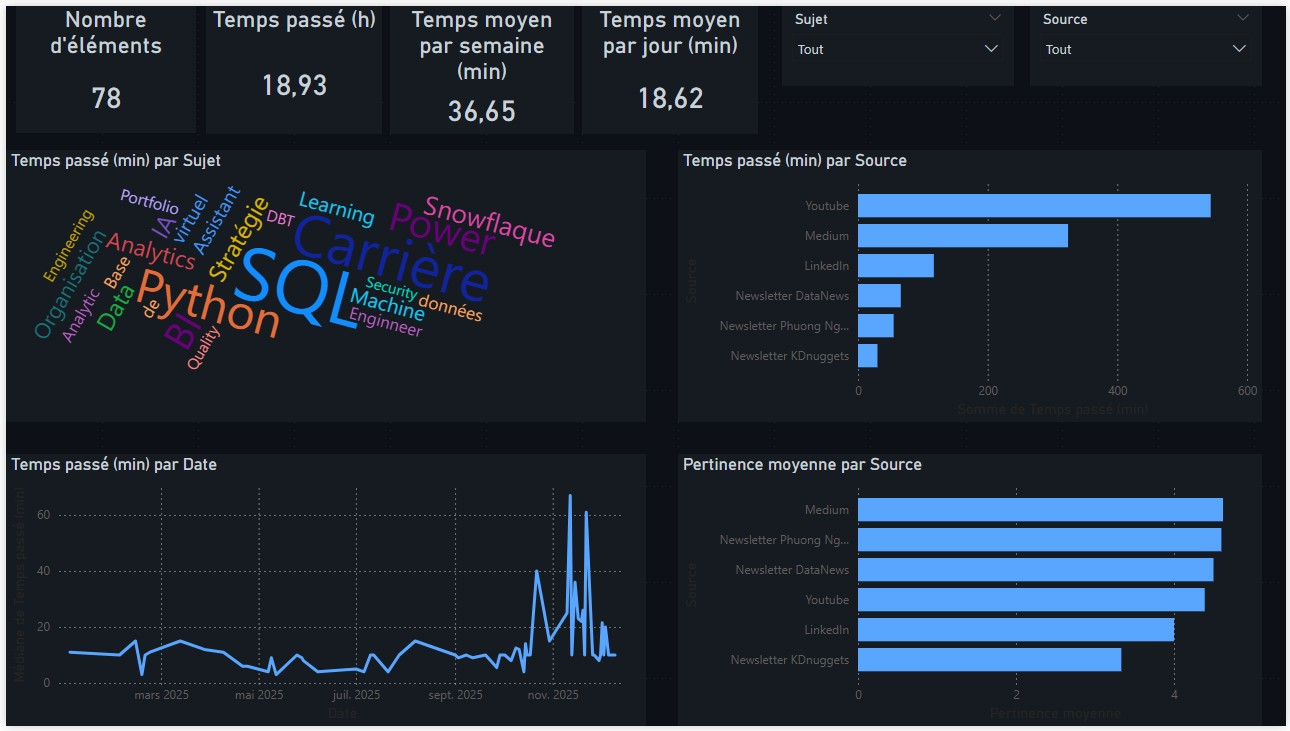

Layout of this report page (visuals, bound fields, positions):
{"tool":"powerbi","page":{"name":"Veille","canvas":[1280,720],"ordinal":1},"visuals":[{"type":"card","title":"Nombre d''éléments","fields":{"Values":["Tableau1.Nombre d'éléments"]},"box":[9.7,0,179.9,127.4],"z":0},{"type":"card","title":"Temps passé (h)","fields":{"Values":["Tableau1.Temps total (h)"]},"box":[200,0,176,128],"z":1000},{"type":"card","title":"Temps moyen par semaine (min)","fields":{"Values":["Tableau1.Temps moyen par semaine (mn)"]},"box":[384,0,184,128],"z":2000},{"type":"card","title":"Temps moyen par jour (min)","fields":{"Values":["Tableau1.Temps moyen par jour (mn)"]},"box":[576,0,176,128],"z":3000},{"type":"WordCloud1447959067750","title":"Temps passé (min) par Sujet","fields":{"Category":["Tableau1.Sujet"],"Values":["Tableau1.Temps passé (min)"]},"box":[0,144,640,272],"z":4000},{"type":"clusteredBarChart","title":"Temps passé (min) par Source","fields":{"Category":["Tableau1.Source"],"Y":["Tableau1.Temps passé (min)"]},"box":[672,144,584,272],"z":5000},{"type":"lineChart","title":"Temps passé (min) par Date","fields":{"Category":["Tableau1.Date"],"Y":["Tableau1.Temps passé (min)"]},"box":[0,448,640,272],"z":6000},{"type":"clusteredBarChart","fields":{"Category":["Tableau1.Source"],"Y":["Tableau1.Pertinence moyenne"]},"box":[672,448,584,272],"z":7000},{"type":"slicer","fields":{"Values":["Tableau1.Sujet"]},"box":[776,0,232,80],"z":8000},{"type":"slicer","fields":{"Values":["Tableau1.Source"]},"box":[1024,0,232,80],"z":9000}]}

Visuals, with their boxes in screenshot pixels (x1, y1, x2, y2), scaled from the page's 1280x720 canvas onto the 1290x731 screenshot:
"Nombre d''éléments" card: rect(10, 0, 191, 129)
"Temps passé (h)" card: rect(202, 0, 379, 130)
"Temps moyen par semaine (min)" card: rect(387, 0, 572, 130)
"Temps moyen par jour (min)" card: rect(580, 0, 758, 130)
"Temps passé (min) par Sujet" WordCloud1447959067750: rect(0, 146, 645, 422)
"Temps passé (min) par Source" clusteredBarChart: rect(677, 146, 1266, 422)
"Temps passé (min) par Date" lineChart: rect(0, 455, 645, 730)
clusteredBarChart - Tableau1.Source x Tableau1.Pertinence moyenne: rect(677, 455, 1266, 730)
slicer - Tableau1.Sujet: rect(782, 0, 1016, 81)
slicer - Tableau1.Source: rect(1032, 0, 1266, 81)
